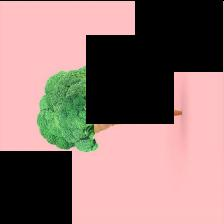green: (37, 64, 102, 151)
